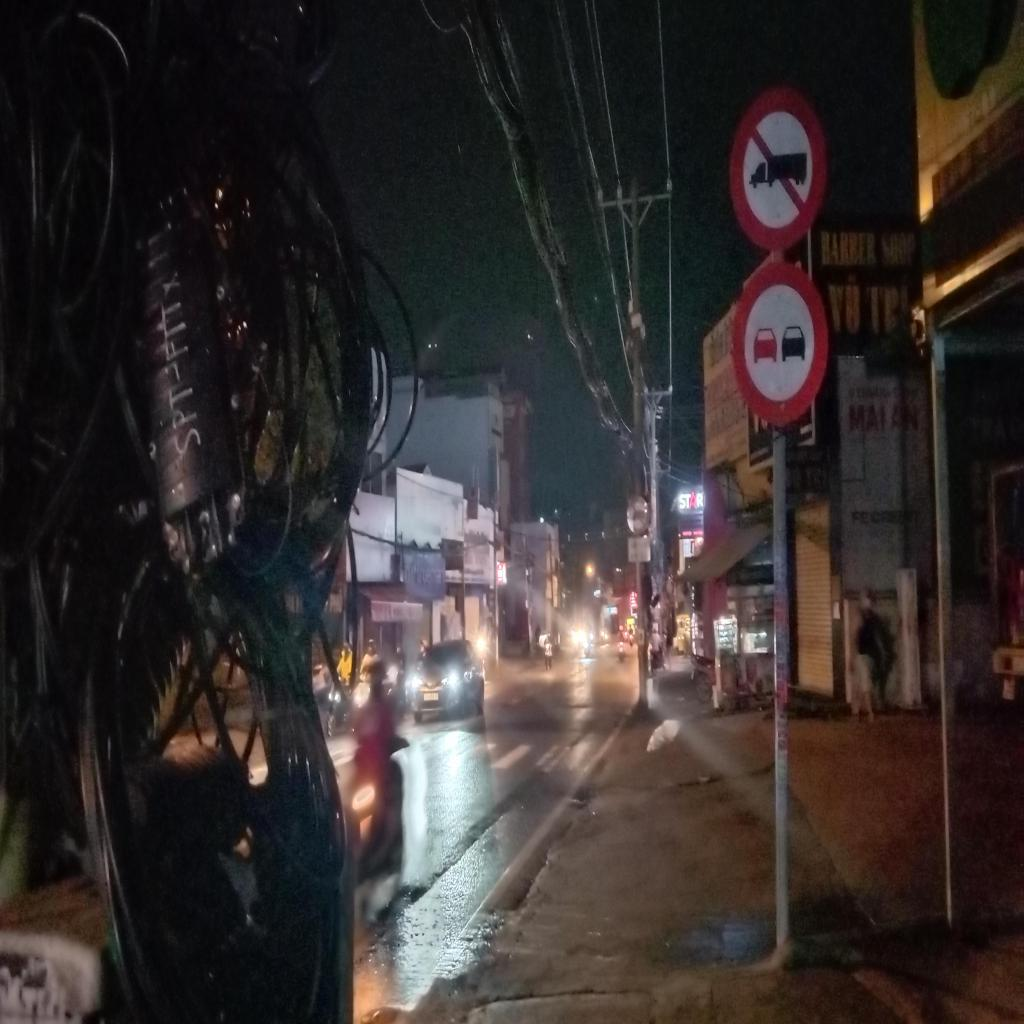cam_o_to_tai: (627, 493, 648, 534)
cam_o_to_tai_trong_luong_qua_10t: (731, 90, 826, 252)
cam_vuot: (732, 264, 827, 427)
